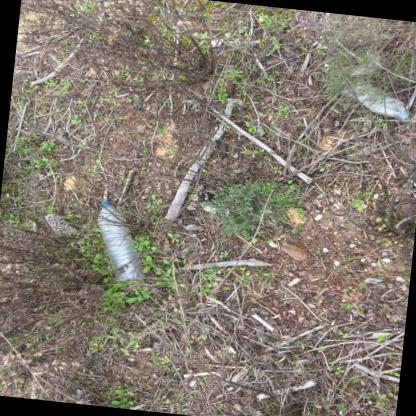Plastic: (96, 201, 145, 281), (352, 82, 409, 120)
